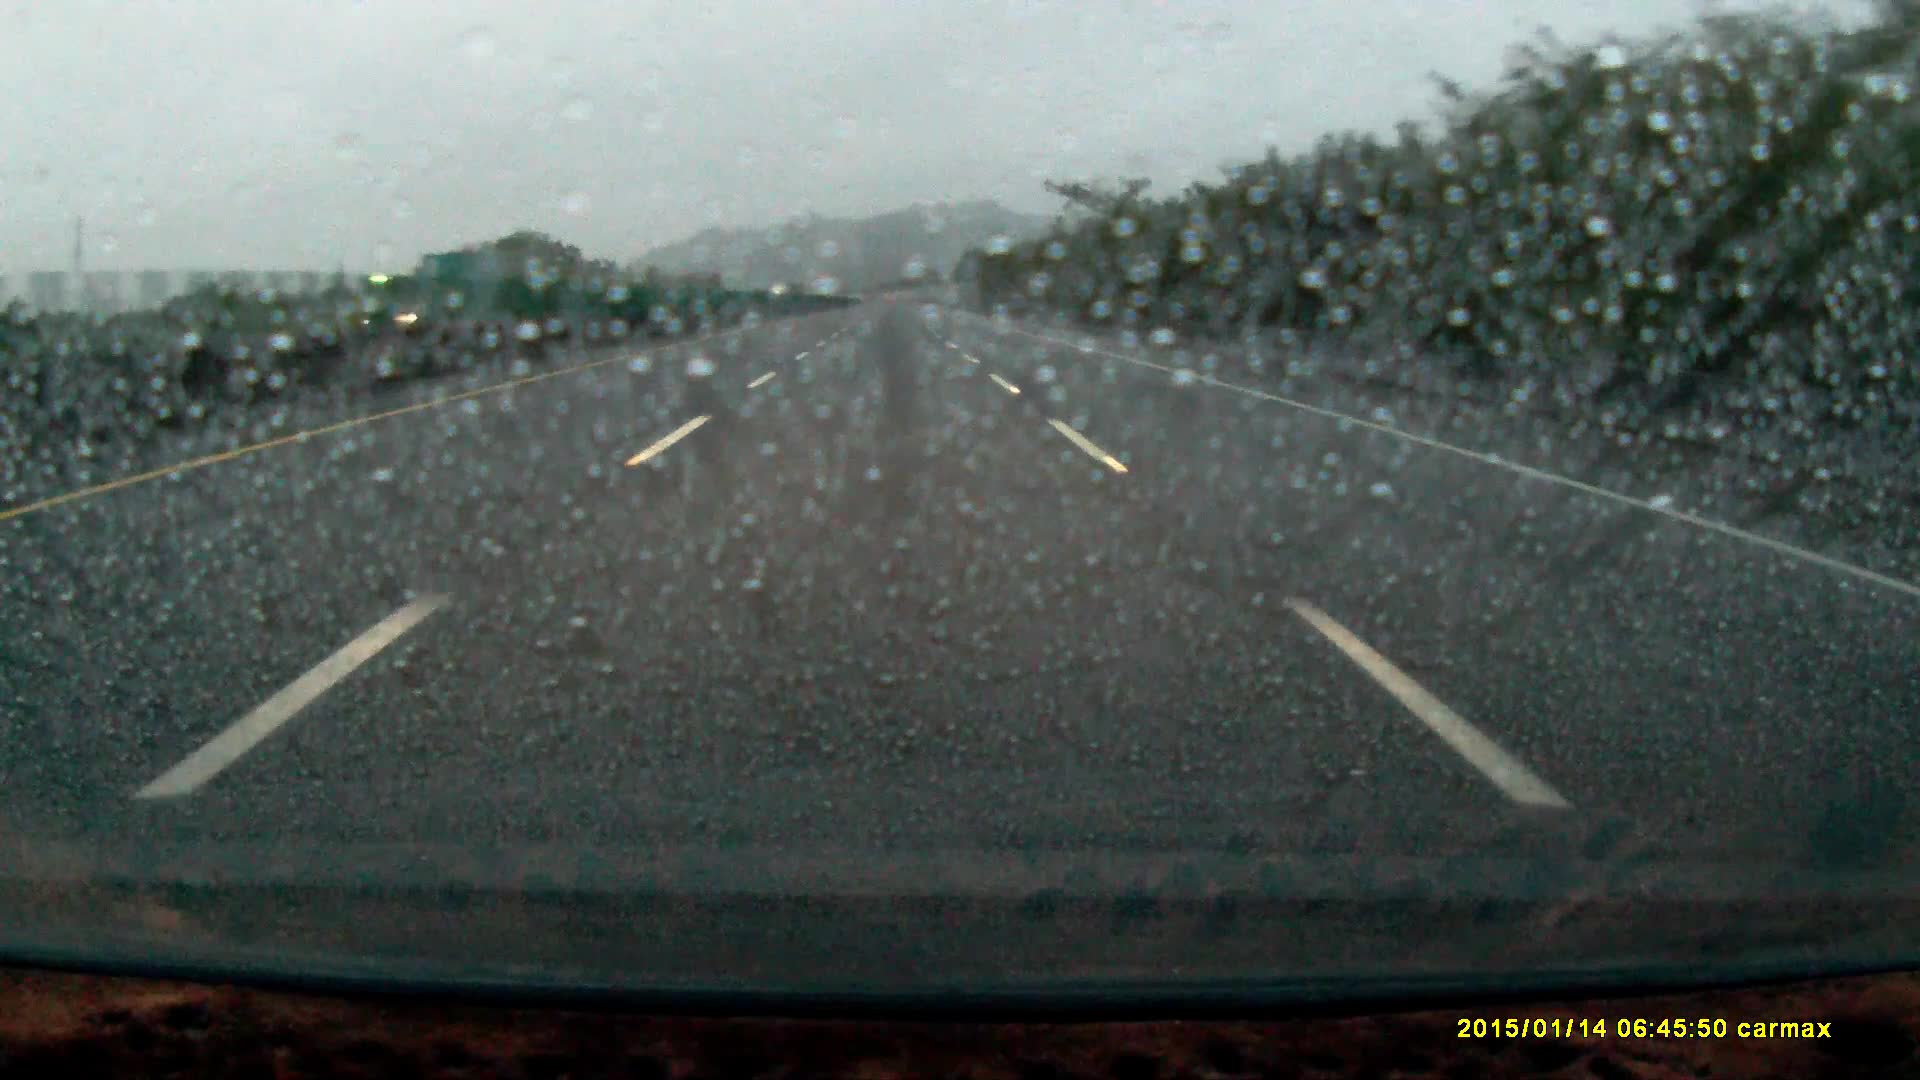vehicle: (348, 255, 512, 344)
